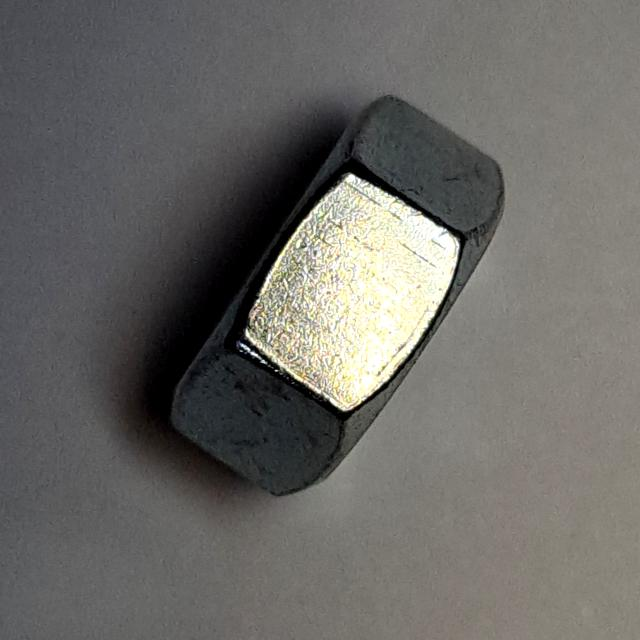Side_Excellent: (152, 81, 525, 520)
